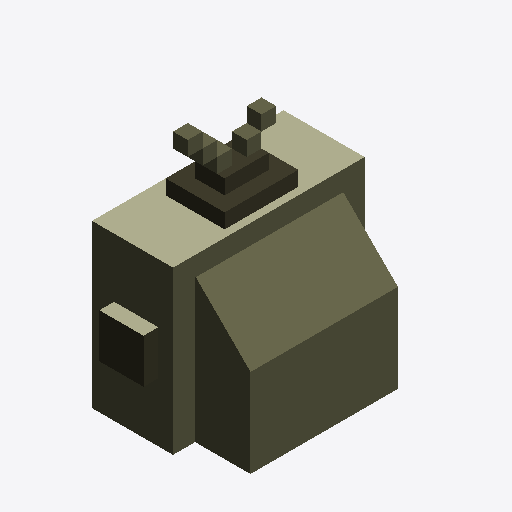
Isometric view (azimuth 45°, elevation 35.3°) of a Minecraft model made of 16 cuboids, textured from the same repository.
Parts seen in each view (by area): element 1, element 16, element 15, element 4, element 3, element 5, element 12, element 10, element 7, element 9.
Part boxes in pixels (x1,y1,x2,y2): element 1: (99, 115, 364, 454); element 16: (195, 193, 397, 384); element 15: (195, 287, 397, 473); element 4: (166, 153, 297, 228); element 3: (99, 302, 157, 386); element 5: (195, 140, 268, 194); element 12: (92, 212, 113, 411); element 10: (173, 123, 202, 156); element 7: (232, 123, 260, 156); element 9: (247, 97, 275, 131).
Bounding box in the file's own units: 15 × 16 × 9.26.